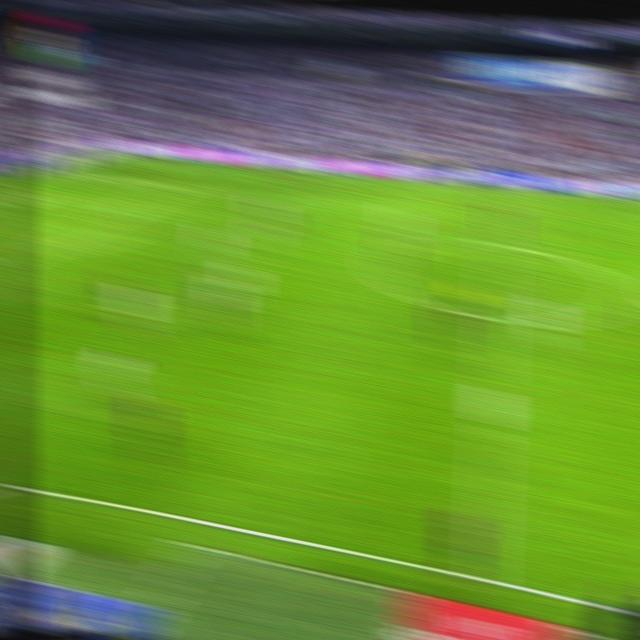corner: (96, 149, 120, 161)
halfcircle_bottom: (481, 310, 508, 328)
halfcircle_top: (484, 234, 512, 255)
midline_bottom_intersection: (469, 563, 502, 589)
midline_top_intersection: (487, 183, 512, 198)
top_arc_area_intersection: (112, 199, 138, 217)
